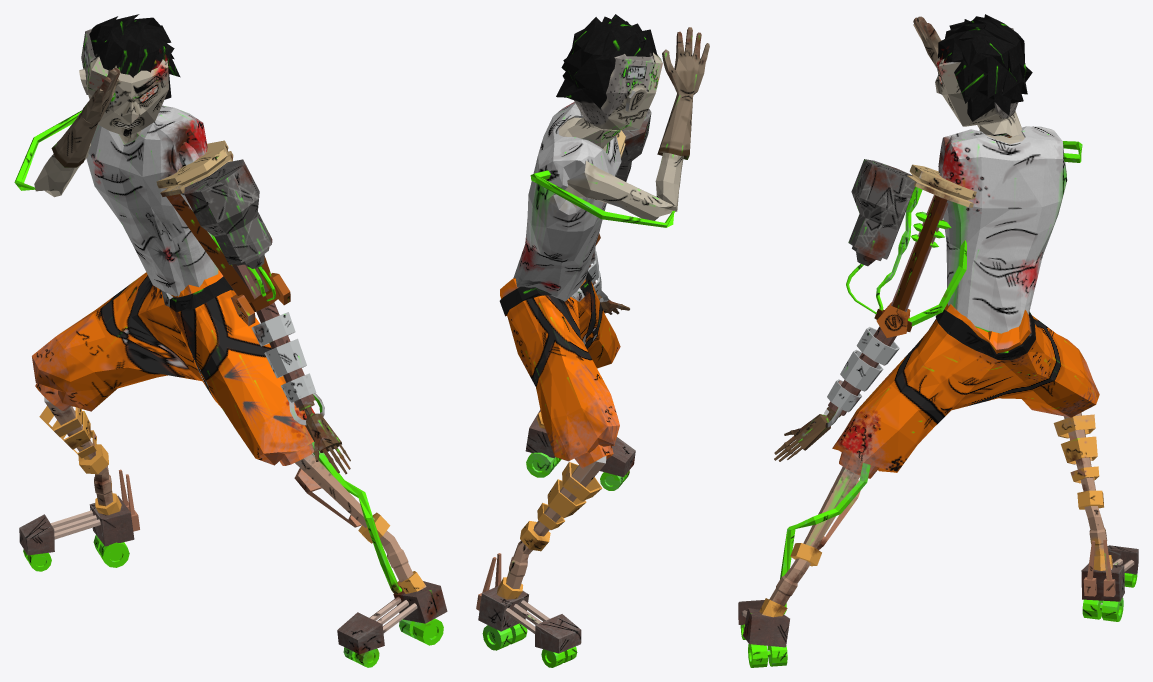
The model's file is CyborgFINALAnimation_000056.obj.
3 views of the same model, side by side, from view 1: azimuth 30°, elevation 25°; view 2: azimuth 150°, elevation 25°; view 3: azimuth 270°, elevation 25° (orthographic). The views are drawn at different scales.
Parts seen in each view (by area): view 1: CyborgMesh_Cube.002; view 2: CyborgMesh_Cube.002; view 3: CyborgMesh_Cube.002.
Boxes of the visible parts, <box> form: CyborgMesh_Cube.002: <box>14,14,447,667</box>; CyborgMesh_Cube.002: <box>476,14,709,667</box>; CyborgMesh_Cube.002: <box>738,14,1138,667</box>.
Size of the model in its own units: 4.24 by 8.64 by 5.44.
